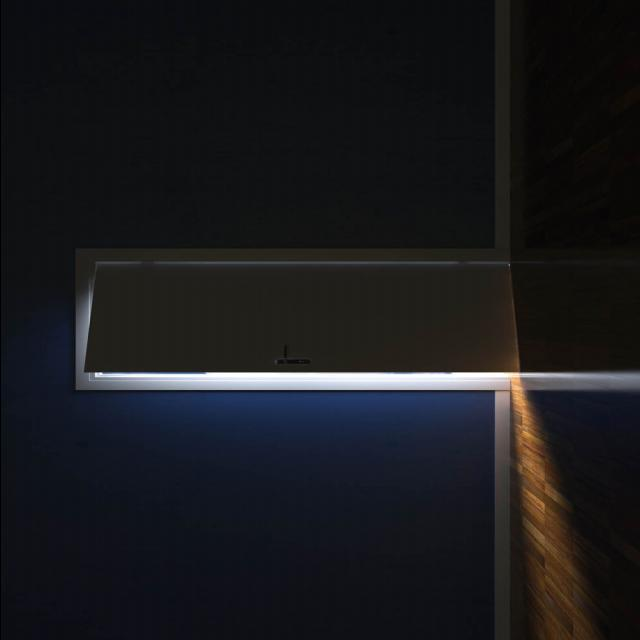open: (84, 252, 518, 392)
